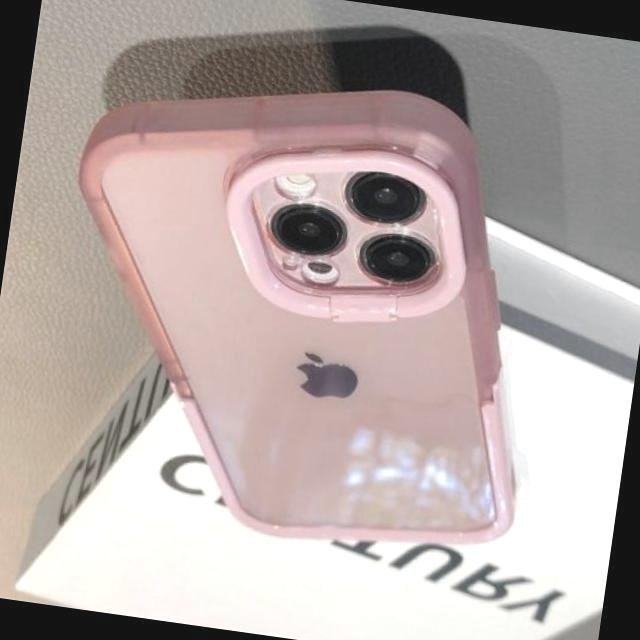lens: (271, 157, 443, 294)
phone: (83, 85, 523, 574)
